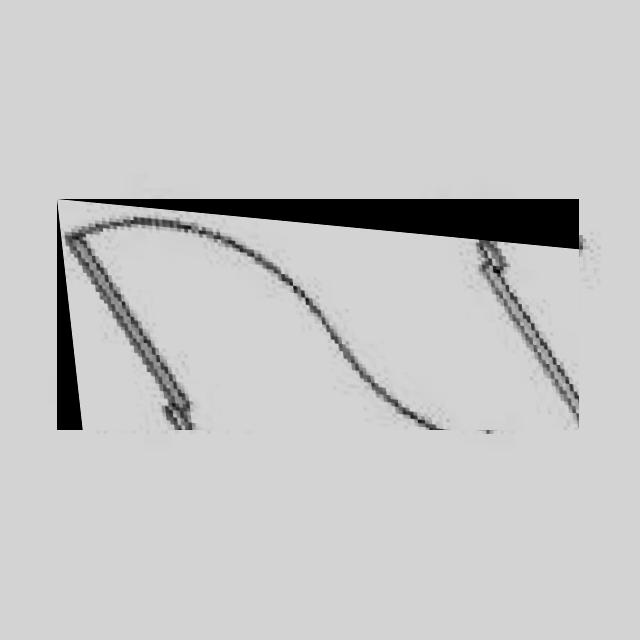door: (57, 199, 579, 430)
